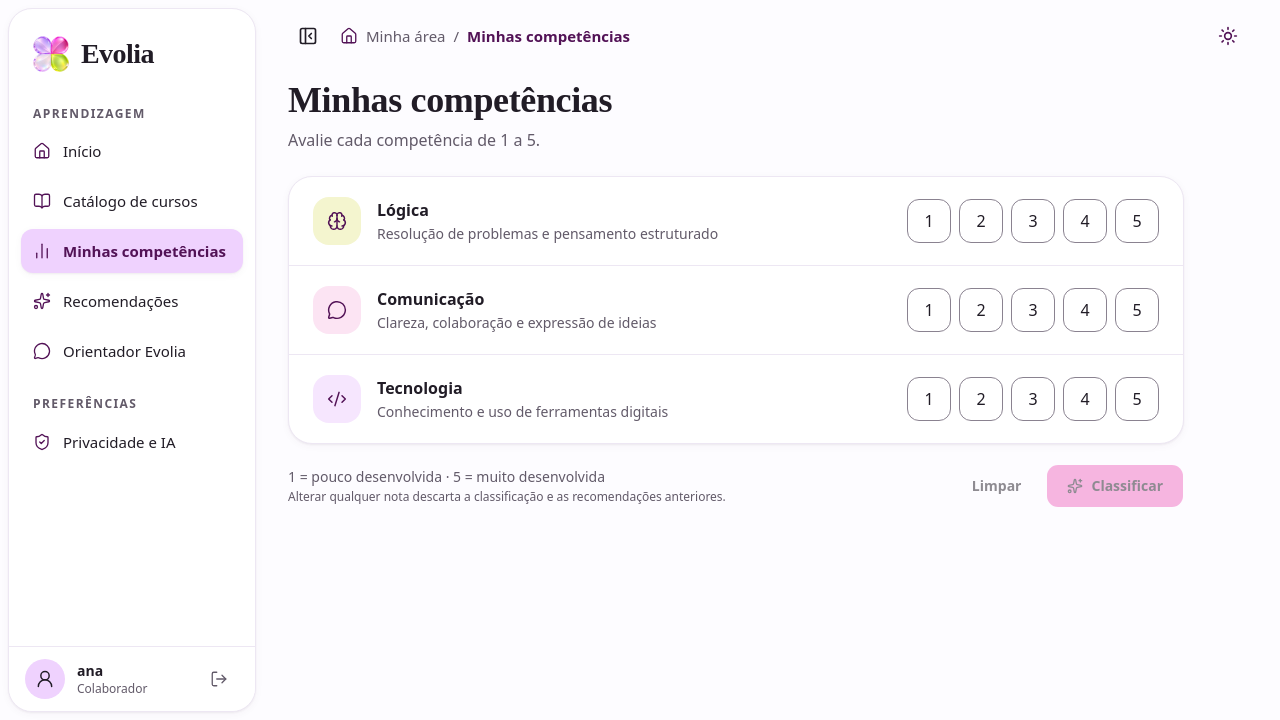
Scenario: recomendações › reutiliza notas e nível da sessão, sem disparo automático, e mostra cursos, códigos e fontes
Expected: the button "Classificar" is shown, [1046,464,1184,508]
Click the radio button labelled "2" in the row of "Lógica": click(981, 221) [959,199,1003,243]
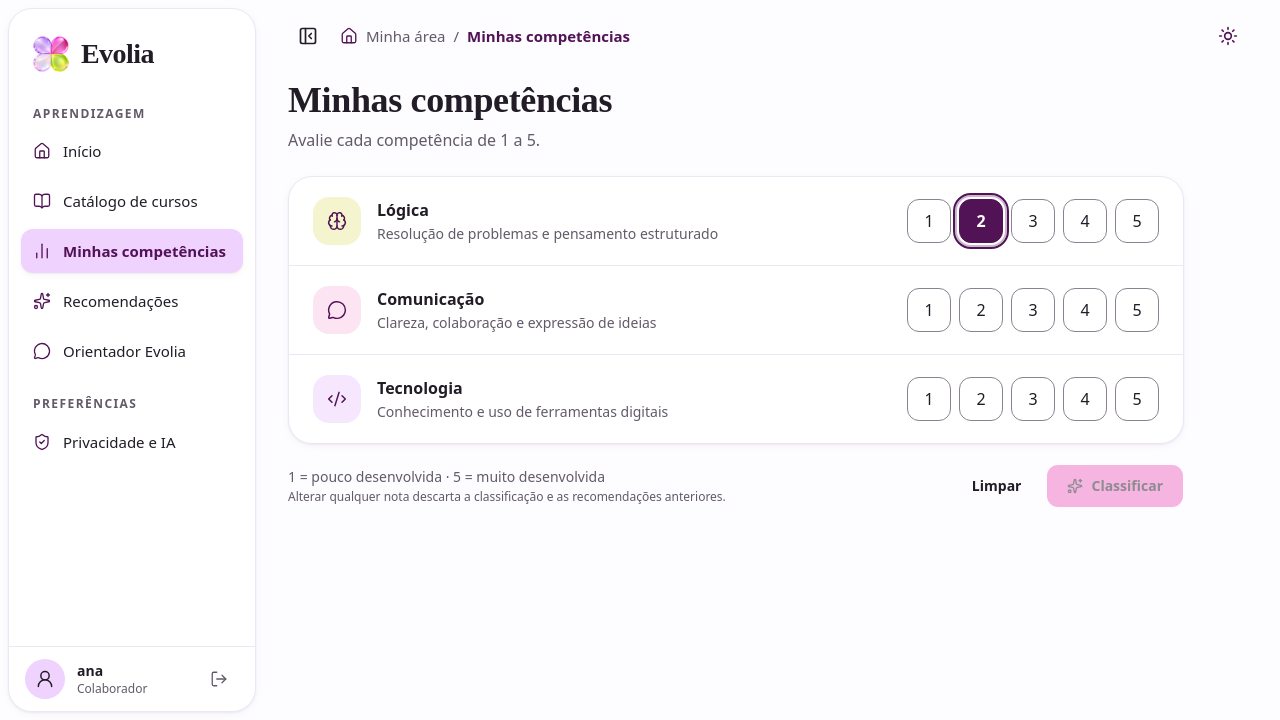
Click the radio button labelled "4" in the row of "Comunicação": click(1085, 310) [1063,288,1107,332]
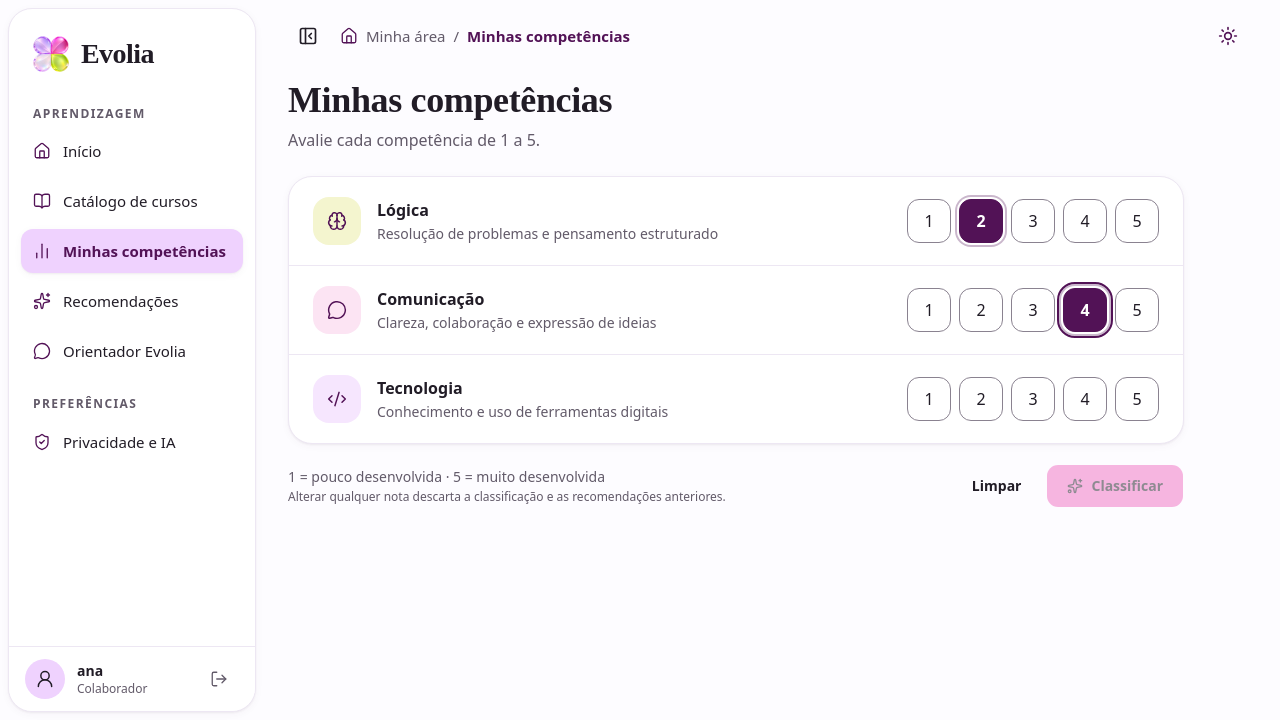
Click the radio button labelled "3" in the row of "Tecnologia": click(1033, 399) [1011,377,1055,421]
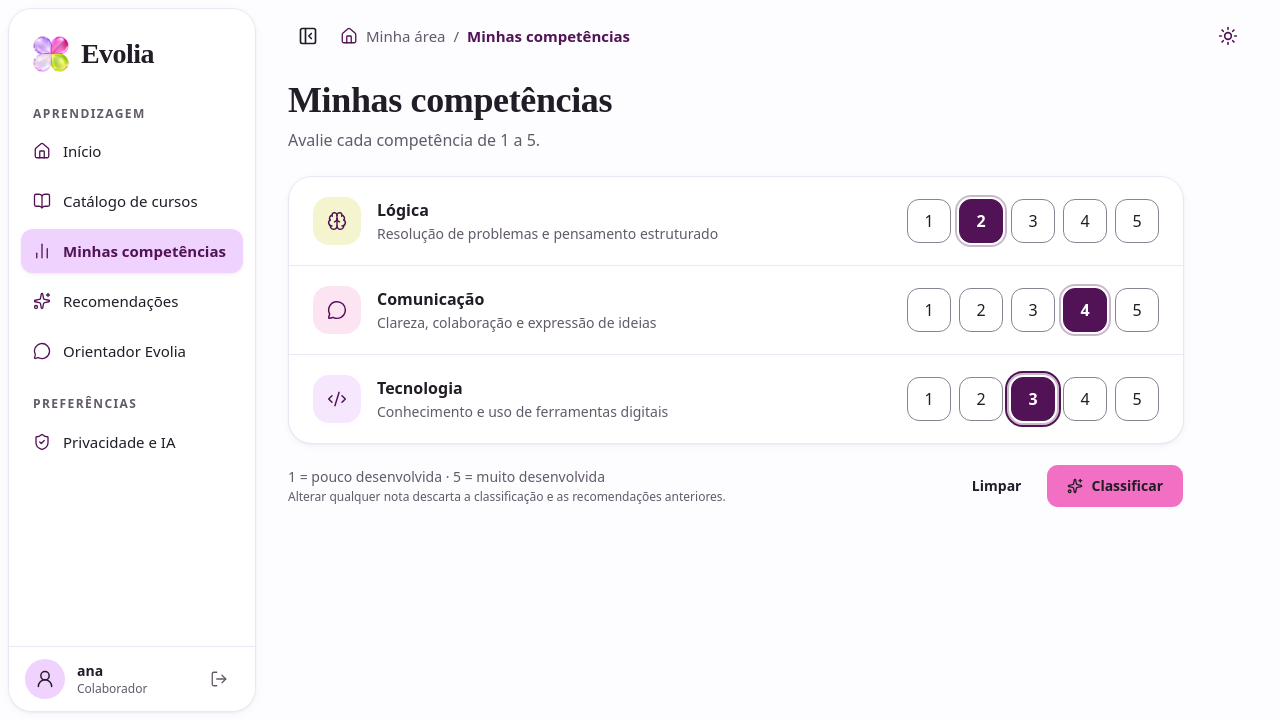
Click the button "Classificar": click(1115, 486) [1046,464,1184,508]
(page scrolled)
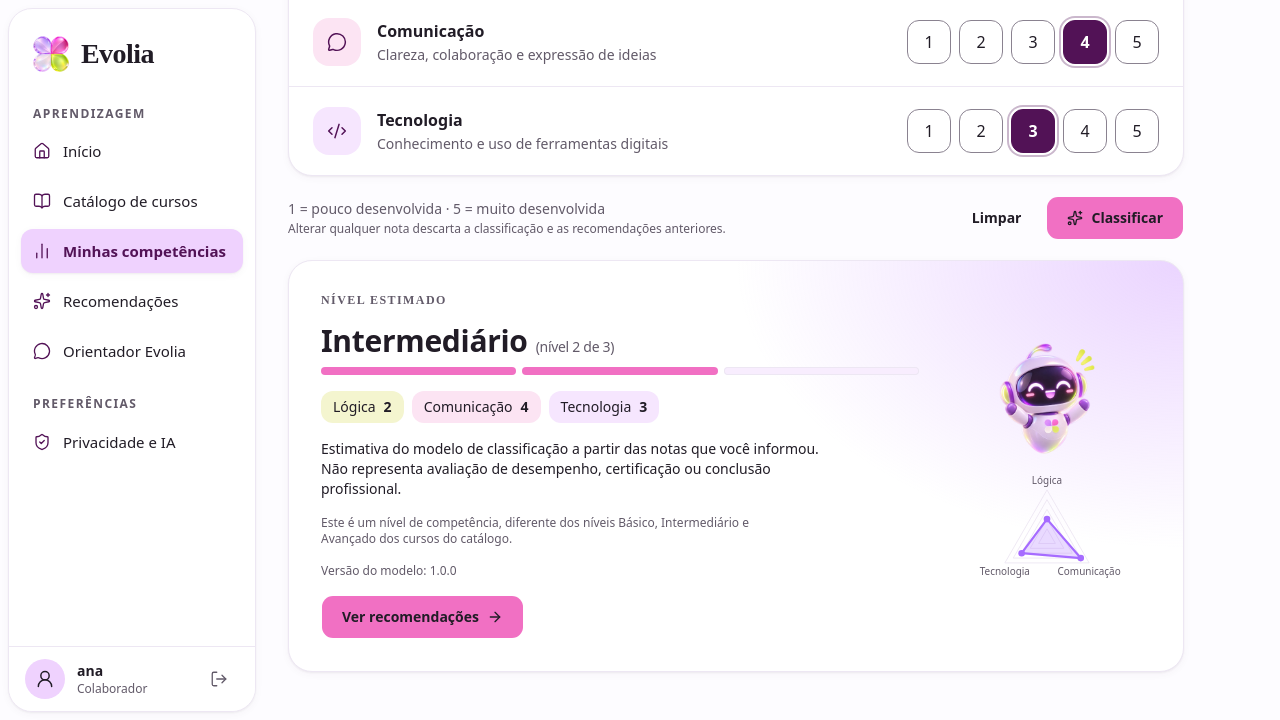
Click the link "Ver recomendações": click(422, 617) [321,595,524,639]
(page scrolled)
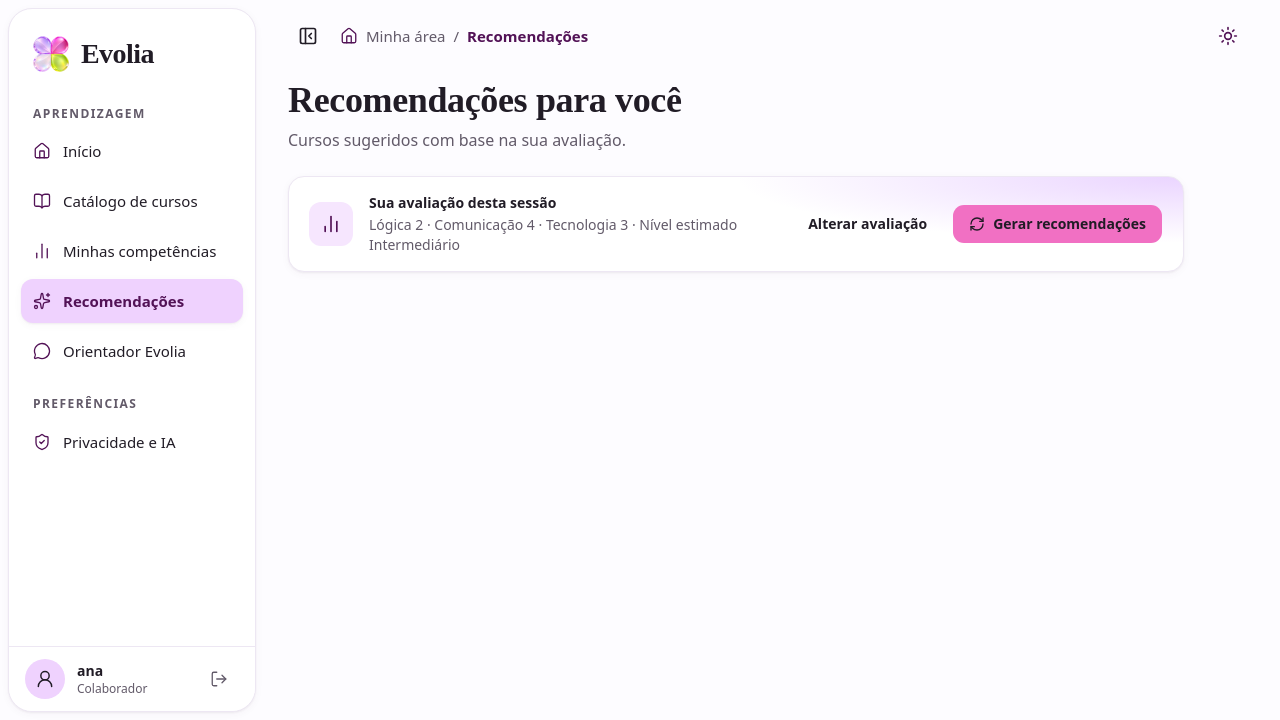
Result: the heading "Recomendações para você" is shown at [288,80,682,120]
Result: the text "Lógica 2 · Comunicação 4 · Tecnologia 3 · Nível estimado Intermediário" is shown at [369,215,775,255]
Click the button "Gerar recomendações": click(1058, 224) [952,204,1163,244]
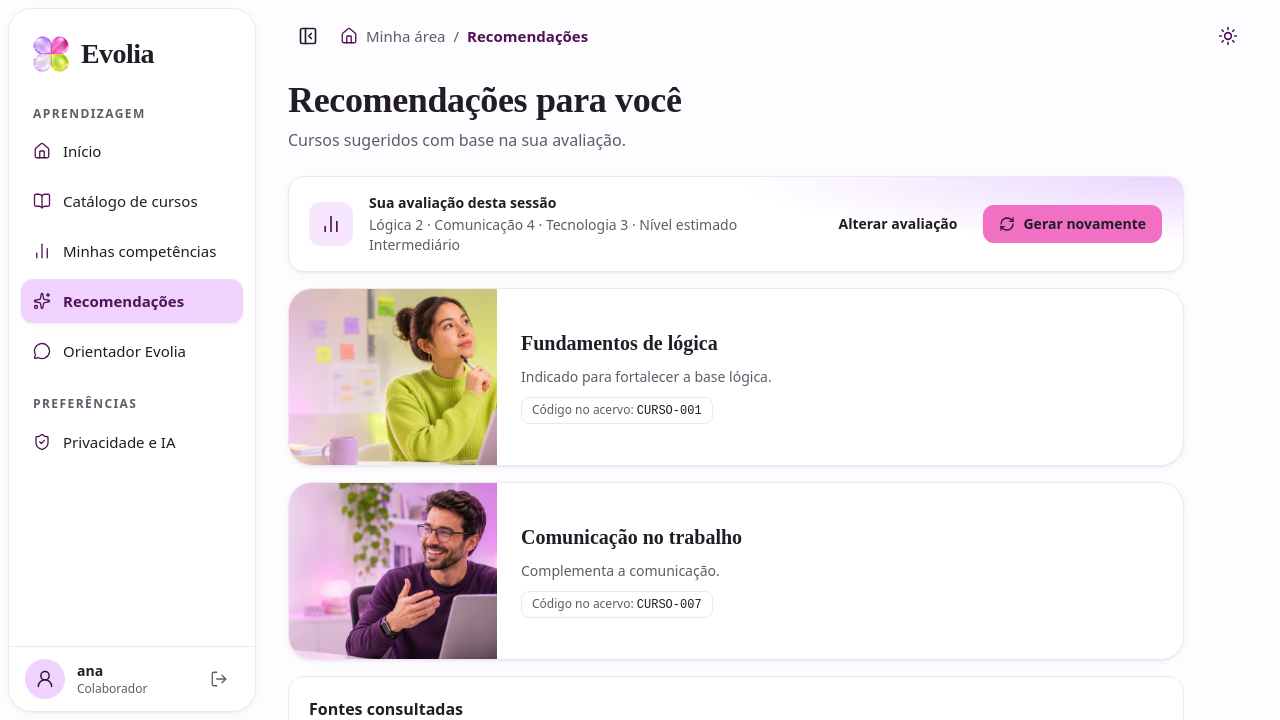
Result: the element that starts with "Fundamentos de lógica" is shown at [521,332,718,354]
Result: the element that starts with "Fundamentos de lógica" shows "Código no acervo: CURSO-001" at [288,288,1184,466]
Result: the element that starts with "Fundamentos de lógica" shows "Indicado para fortalecer a base lógica." at [521,367,772,386]
